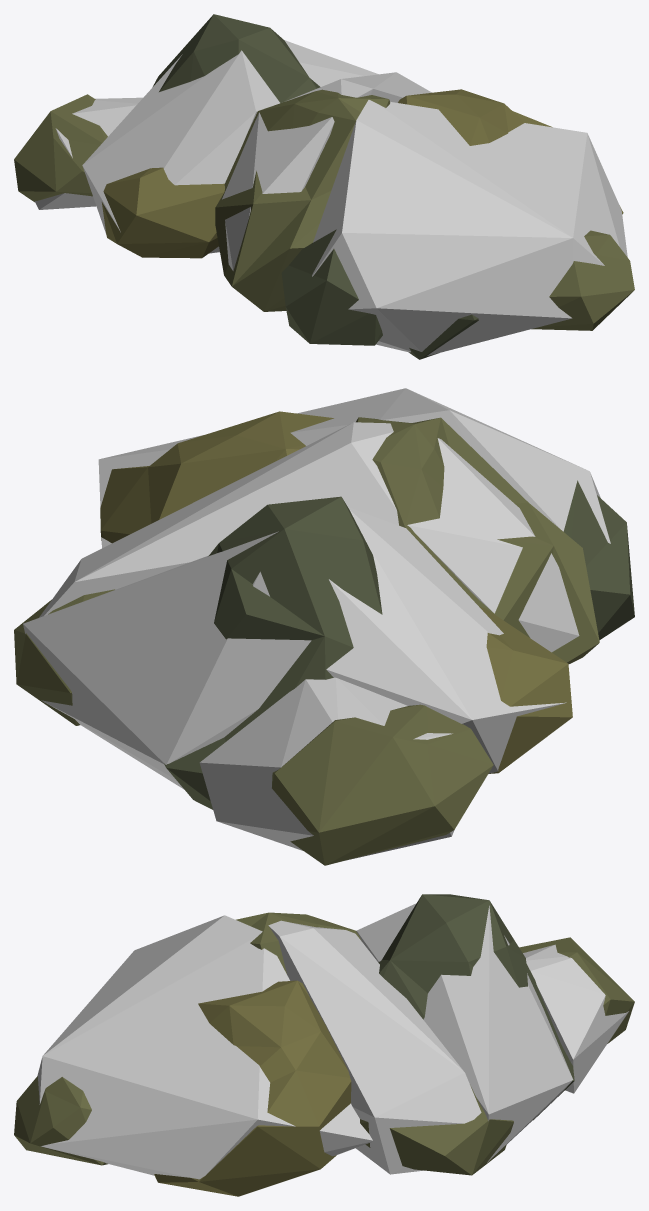
Rendered from SM_Env_Bushes_03.fbx.
The picture shows the model from 3 angles, top to bottom: view 1: azimuth 30°, elevation 25°; view 2: azimuth 150°, elevation 25°; view 3: azimuth 270°, elevation 25°; orthographic projection. The views are drawn at different scales.
Visible parts, largest first — view 1: SM_Env_Bushes_03_ConvexHulls, SM_Env_Bushes_03; view 2: SM_Env_Bushes_03_ConvexHulls, SM_Env_Bushes_03; view 3: SM_Env_Bushes_03_ConvexHulls, SM_Env_Bushes_03.
Boxes of the visible parts, left/top/right/bottom form: SM_Env_Bushes_03_ConvexHulls: left=34, top=40, right=627, bottom=355; SM_Env_Bushes_03: left=14, top=14, right=634, bottom=359; SM_Env_Bushes_03_ConvexHulls: left=23, top=388, right=610, bottom=860; SM_Env_Bushes_03: left=14, top=411, right=634, bottom=865; SM_Env_Bushes_03_ConvexHulls: left=37, top=903, right=628, bottom=1179; SM_Env_Bushes_03: left=14, top=894, right=634, bottom=1196.
Size of the model in its own units: 509 by 650 by 245.
2 materials, 1 textured.
